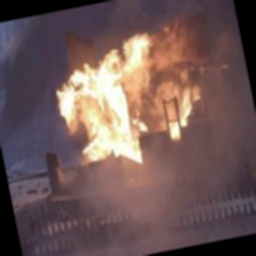fire: (42, 21, 218, 171)
